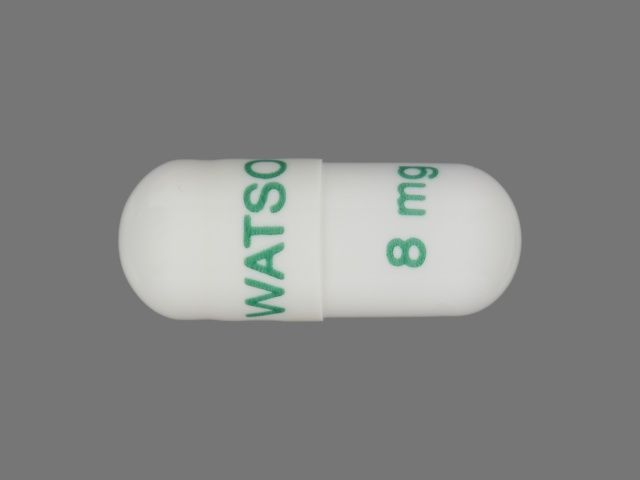8: (384, 233, 428, 271)
A: (243, 242, 288, 280)
O: (242, 158, 289, 179)
S: (242, 179, 288, 215)
T: (241, 212, 284, 247)
W: (242, 278, 288, 326)
capsule: (116, 156, 526, 325)
mg: (394, 162, 443, 220)
